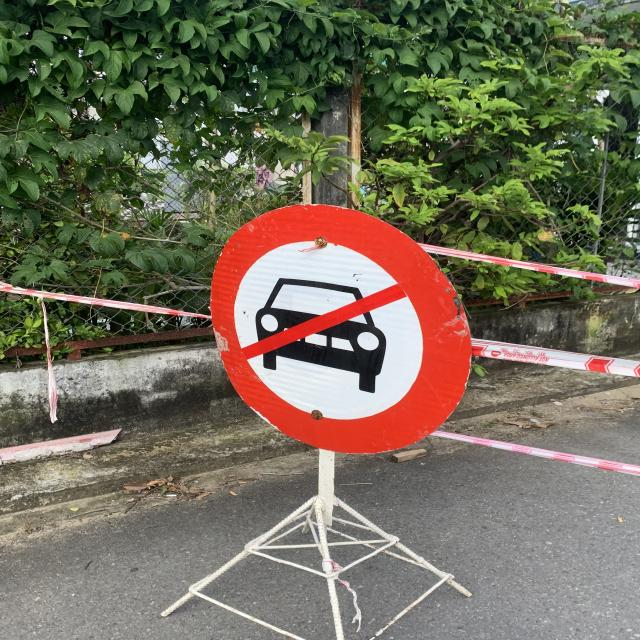Cam_O_To: (211, 204, 476, 456)
